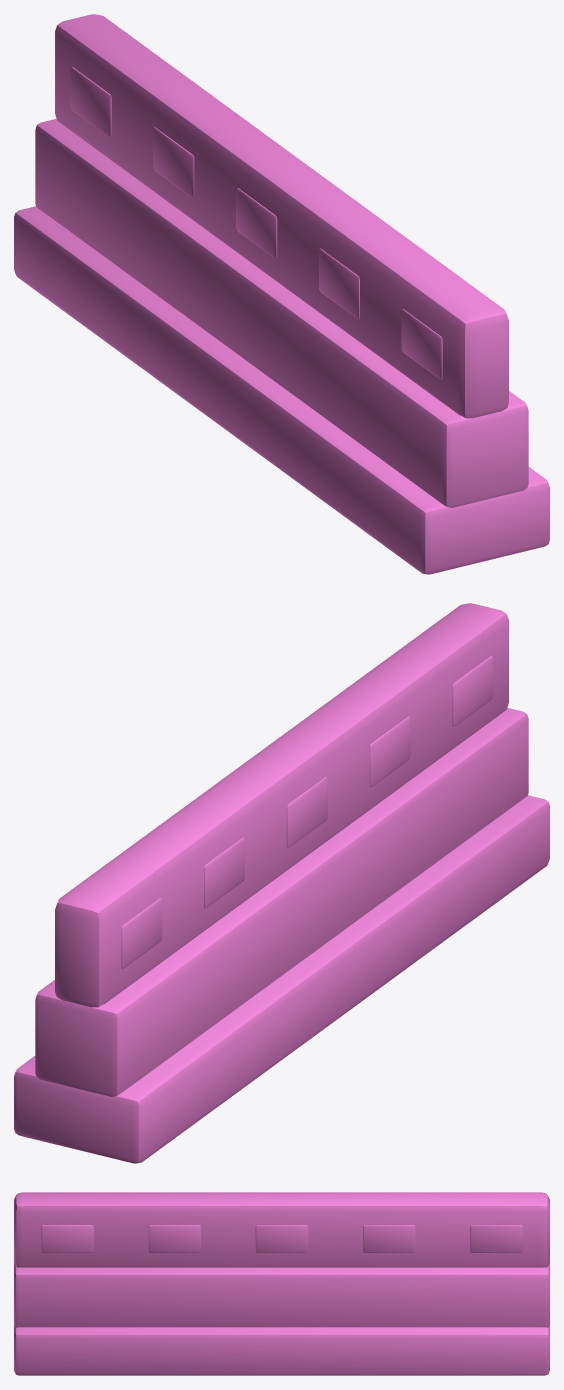
Rendered from Site_Barrier.fbx.
The picture shows the model from 3 angles, top to bottom: view 1: azimuth 30°, elevation 25°; view 2: azimuth 150°, elevation 25°; view 3: azimuth 270°, elevation 25°; orthographic projection. The views are drawn at different scales.
Visible parts, largest first — view 1: Barrier; view 2: Barrier; view 3: Barrier.
Part boxes in pixels (x1,y1,x2,y2): Barrier: (14,14,549,574); Barrier: (14,603,549,1163); Barrier: (14,1192,549,1375).
Bounding box in the file's own units: 1.8 × 3.3 × 10.
1 material, 1 textured.
